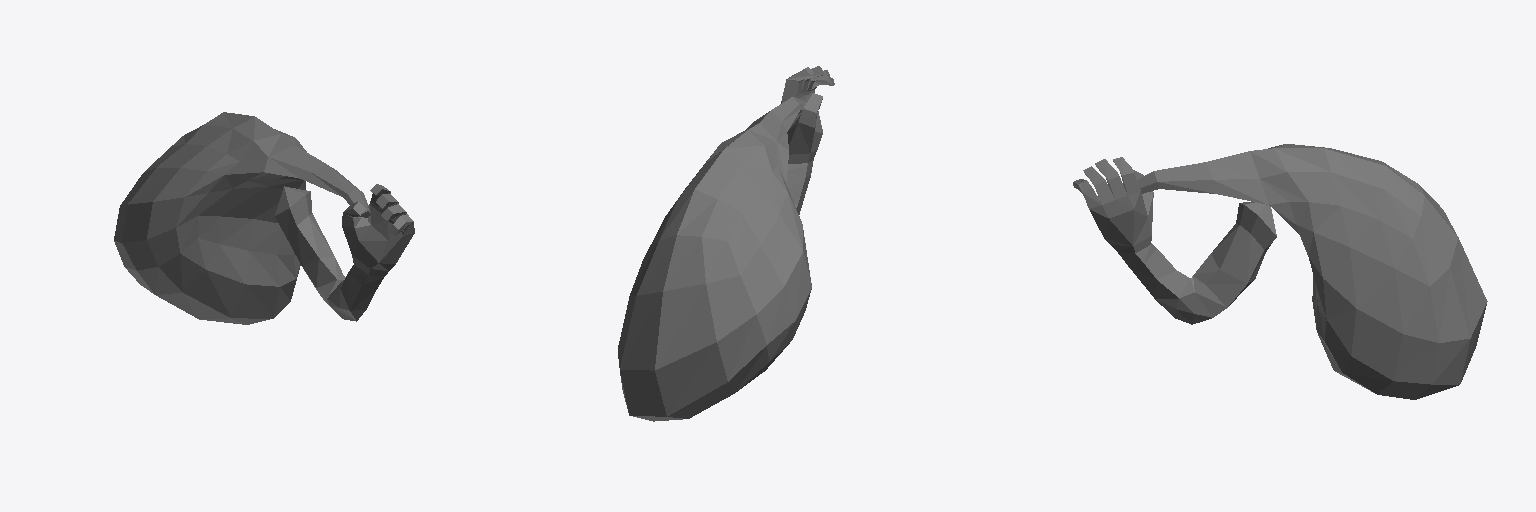
Rendered from leftarm.obj.
3 renders of one model, left to right at view 1: azimuth 30°, elevation 25°; view 2: azimuth 150°, elevation 25°; view 3: azimuth 270°, elevation 25°, orthographic.
Visible parts, largest first — view 1: leftarm; view 2: leftarm; view 3: leftarm.
Boxes of the visible parts, x1=… form: leftarm: x1=114, y1=112, x2=414, y2=324; leftarm: x1=618, y1=66, x2=834, y2=421; leftarm: x1=1073, y1=144, x2=1487, y2=399.
Bounding box in the file's own units: 16.62 × 23.57 × 37.06.